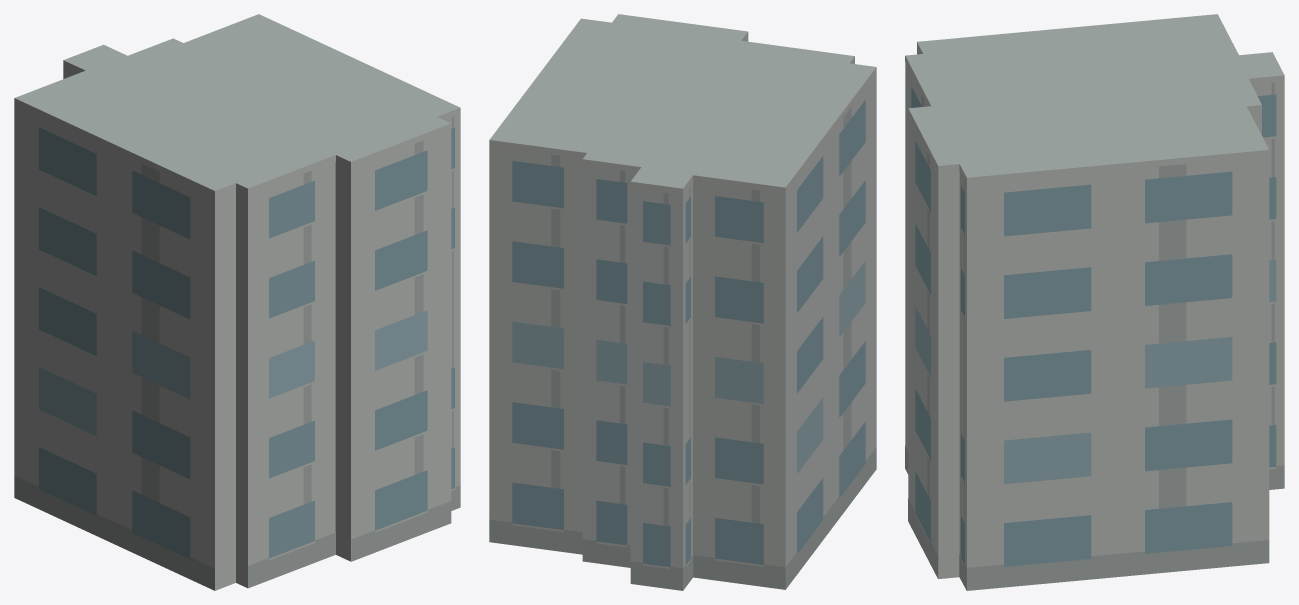
The model's file is residential-0f5c5e98-60da-4386-a694-a328b7ffcf51.glb.
3 views of the same model, side by side, from view 1: azimuth 30°, elevation 25°; view 2: azimuth 150°, elevation 25°; view 3: azimuth 270°, elevation 25° (orthographic). The views are drawn at different scales.
Parts seen in each view (by area): view 1: residential-0f5c5e98-60da-4386-a694-a328b7ffcf51.tmp; view 2: residential-0f5c5e98-60da-4386-a694-a328b7ffcf51.tmp; view 3: residential-0f5c5e98-60da-4386-a694-a328b7ffcf51.tmp.
Boxes of the visible parts, bbox=[...] form: residential-0f5c5e98-60da-4386-a694-a328b7ffcf51.tmp: bbox=[14, 14, 460, 590]; residential-0f5c5e98-60da-4386-a694-a328b7ffcf51.tmp: bbox=[489, 14, 876, 590]; residential-0f5c5e98-60da-4386-a694-a328b7ffcf51.tmp: bbox=[905, 14, 1284, 590].
Bounding box in the file's own units: 12.97 × 15.25 × 12.7.
